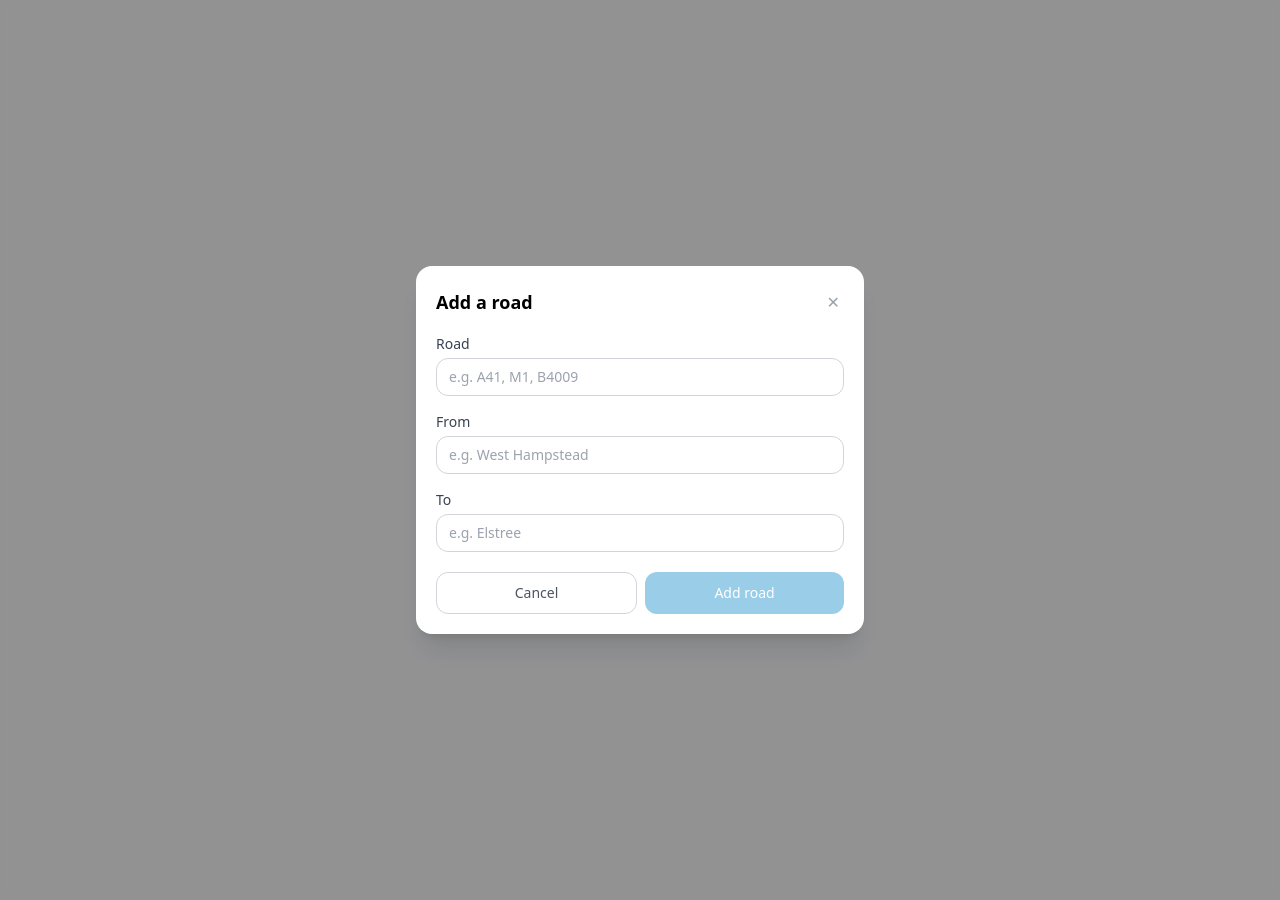
AddRoadModal › shows suggestions in From field after search
In the search field with placeholder "e.g. West Hampstead": [640, 455] box [436, 436, 844, 474], type "West"
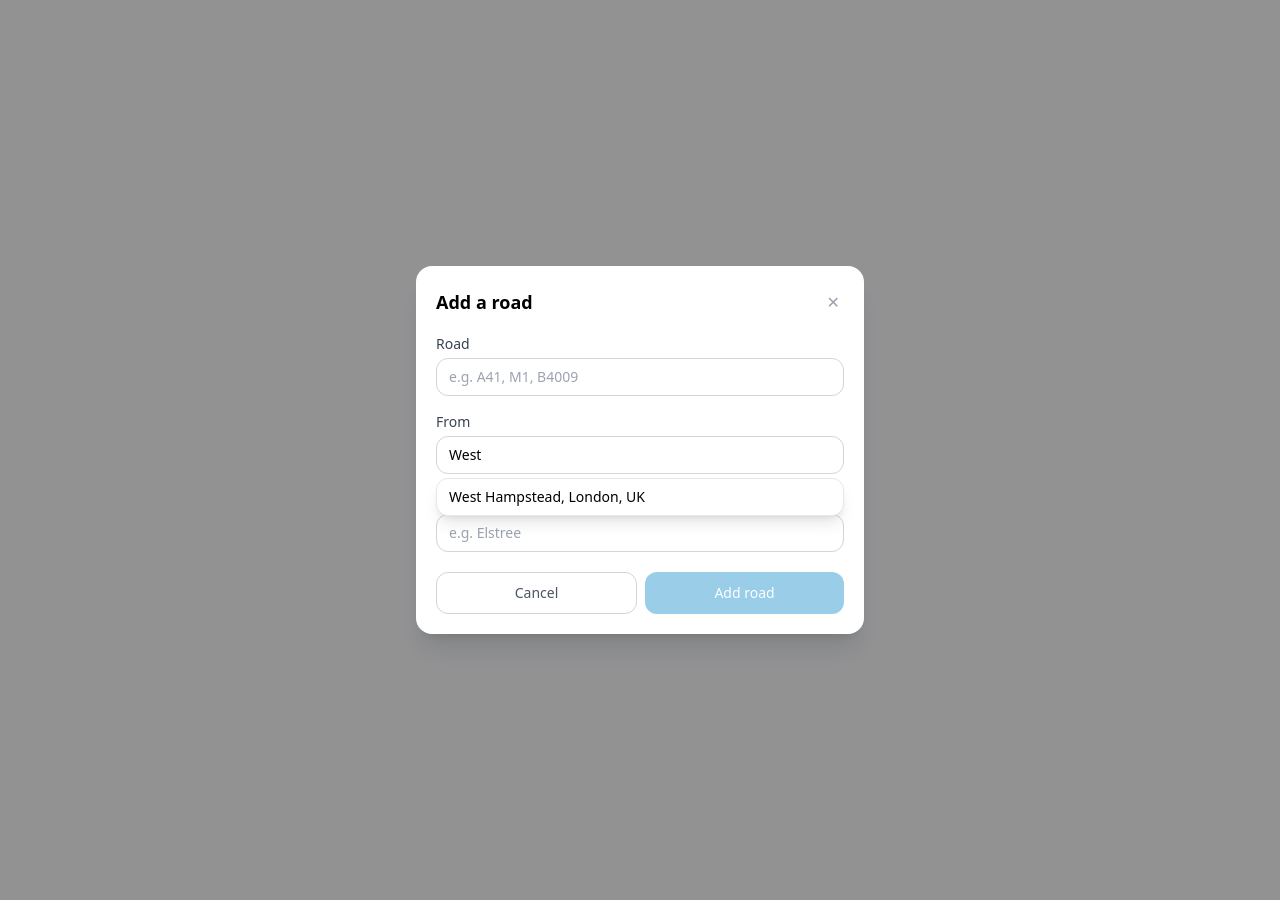
Result: the button "West Hampstead, London, UK" is shown at [437, 479, 843, 515]
